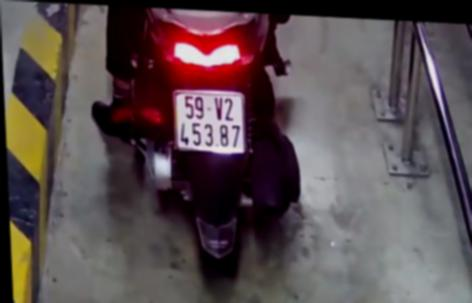License_Plate: (161, 85, 254, 163)
